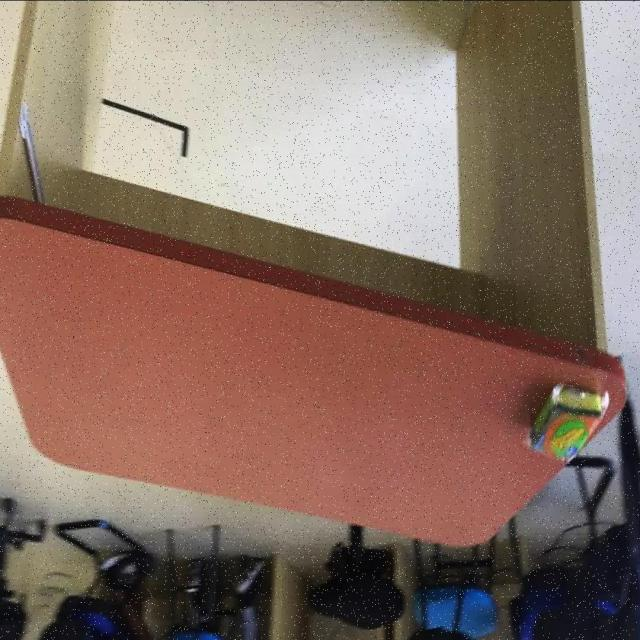Sponge: (525, 380, 606, 463)
